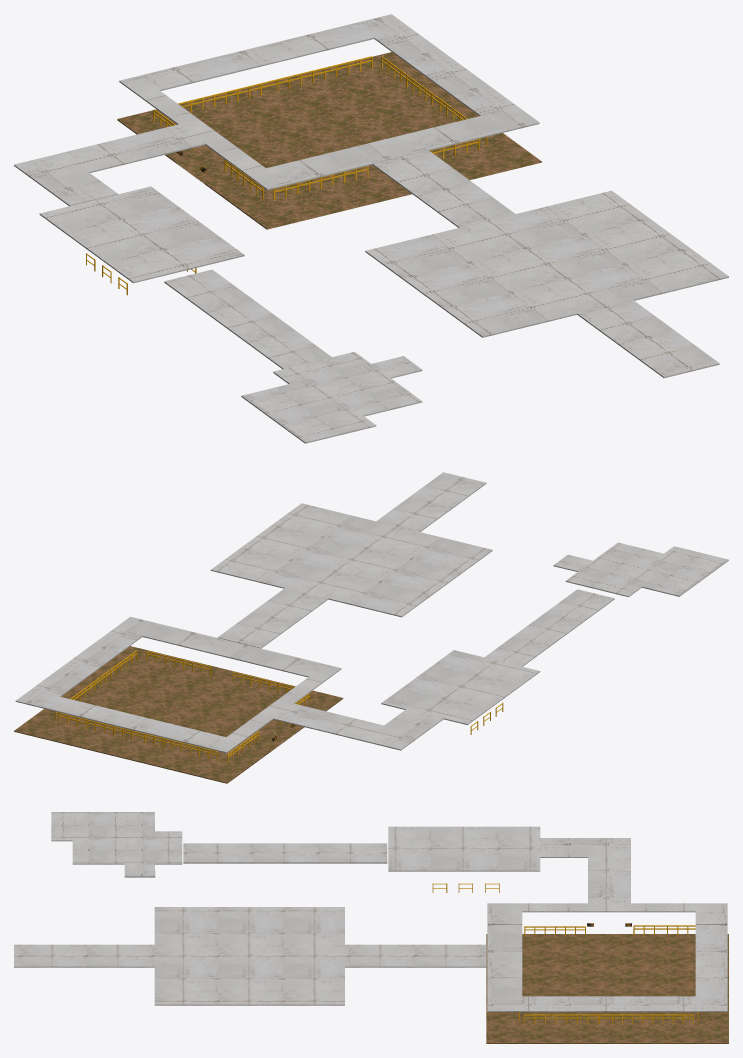
Rendered from rejas.obj.
3 views of the same model, one above another, from view 1: azimuth 30°, elevation 25°; view 2: azimuth 150°, elevation 25°; view 3: azimuth 270°, elevation 25° (orthographic). The views are drawn at different scales.
Parts seen in each view (by area): view 1: Cube.133, Cube.285, Cube.118, Cube.117, Cube.115, Cube.116; view 2: Cube.133, Cube.285, Cube.118, Cube.117, Cube.115, Cube.116; view 3: Cube.133, Cube.285, Cube.118, Cube.117, Cube.115, Cube.116, Cube.088, Cube.087.
Boxes of the visible parts, x1,y1,x2,y2 form: Cube.133: [365, 150, 728, 378]; Cube.285: [117, 52, 541, 229]; Cube.118: [14, 14, 539, 206]; Cube.117: [39, 186, 244, 283]; Cube.115: [241, 351, 422, 443]; Cube.116: [164, 269, 331, 369]; Cube.133: [210, 472, 492, 648]; Cube.285: [14, 646, 343, 783]; Cube.118: [15, 616, 444, 753]; Cube.117: [381, 650, 540, 724]; Cube.115: [553, 542, 728, 597]; Cube.116: [484, 589, 614, 666]; Cube.133: [14, 907, 486, 1005]; Cube.285: [486, 934, 728, 1043]; Cube.118: [487, 838, 727, 1011]; Cube.117: [388, 826, 540, 871]; Cube.115: [51, 812, 182, 877]; Cube.116: [183, 843, 387, 863]; Cube.088: [606, 1014, 693, 1024]; Cube.087: [523, 1014, 605, 1024].
Size of the model in its own units: 156 by 11.79 by 236.
